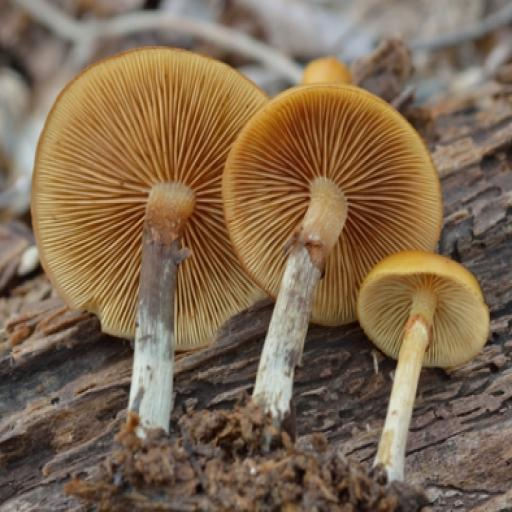mushroom: (26, 39, 491, 507)
